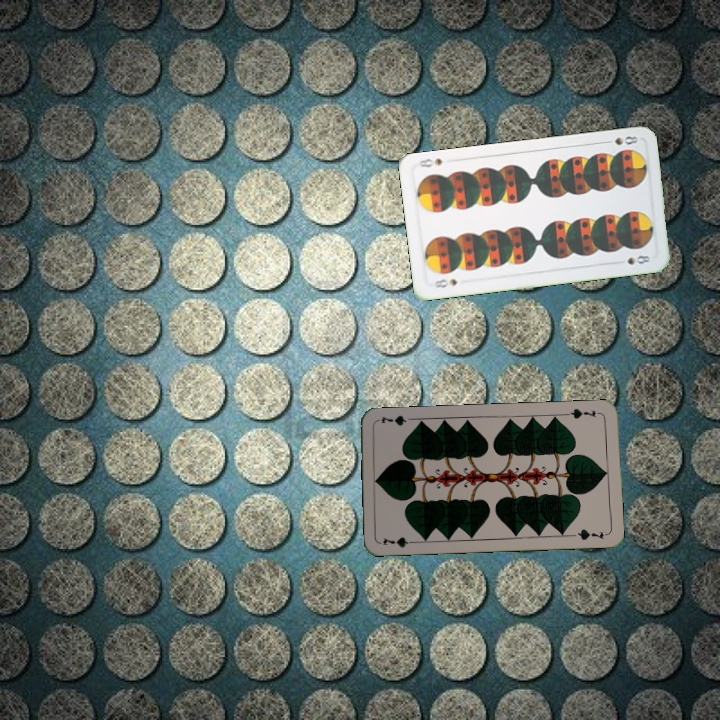G7: (379, 533, 419, 550), (563, 404, 603, 421)
S8: (600, 132, 641, 148), (429, 275, 460, 290)
